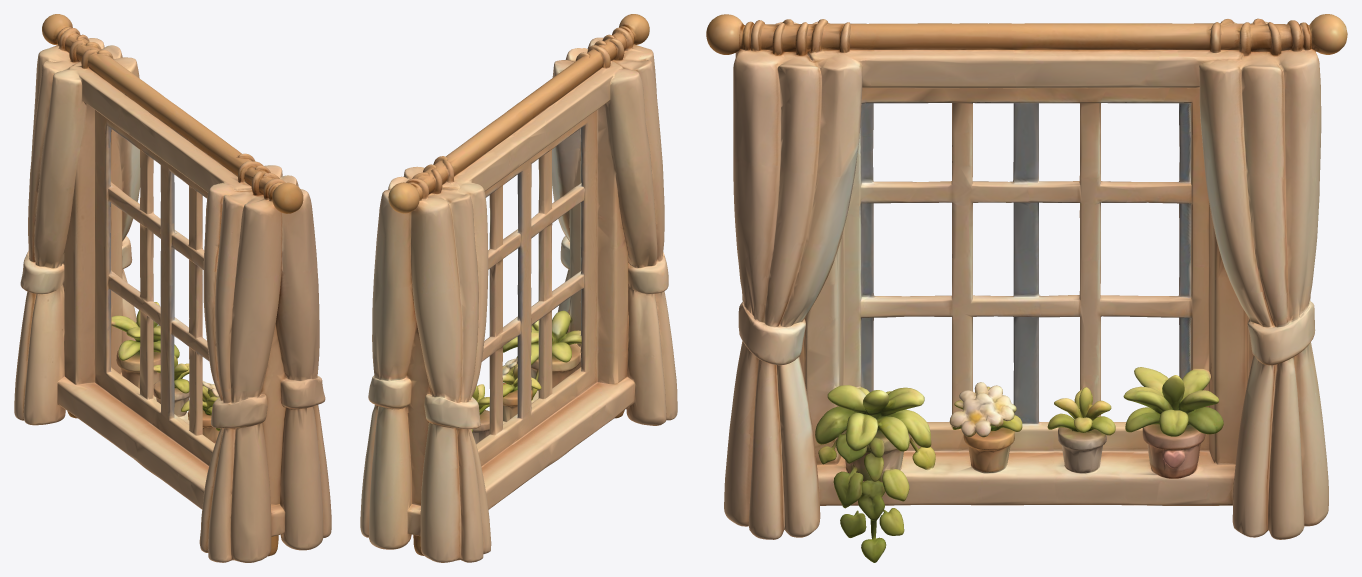
The model's file is window-de1933c551c1.glb.
3 views of the same model, side by side, from view 1: azimuth 30°, elevation 25°; view 2: azimuth 150°, elevation 25°; view 3: azimuth 270°, elevation 25° (orthographic). The views are drawn at different scales.
Parts seen in each view (by area): view 1: tripo_node_8111cb20-1441-469f-98a7-6d3e034144d6; view 2: tripo_node_8111cb20-1441-469f-98a7-6d3e034144d6; view 3: tripo_node_8111cb20-1441-469f-98a7-6d3e034144d6.
Boxes of the visible parts, bbox=[...] form: tripo_node_8111cb20-1441-469f-98a7-6d3e034144d6: bbox=[14, 14, 331, 562]; tripo_node_8111cb20-1441-469f-98a7-6d3e034144d6: bbox=[360, 14, 677, 562]; tripo_node_8111cb20-1441-469f-98a7-6d3e034144d6: bbox=[706, 14, 1347, 562].
Bounding box in the file's own units: 0.3011 × 0.8878 × 0.9999.
1 material, 1 textured.
